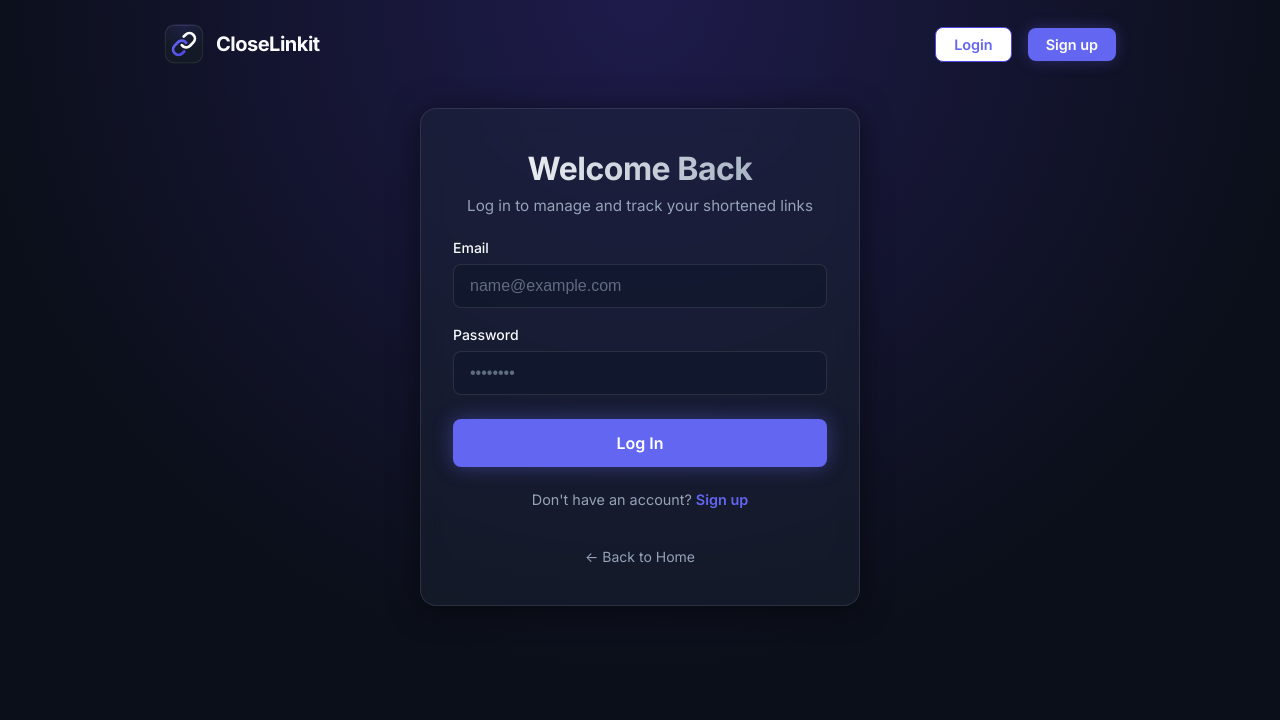
Test: App Component › claims anonymous URLs upon login and displays claimed URLs in list
The image size is (1280, 720).
Type "claim@example.com" into the field labelled "Email".
click(640, 286); type("claim@example.com")  # box left=453, top=264, right=827, bottom=308
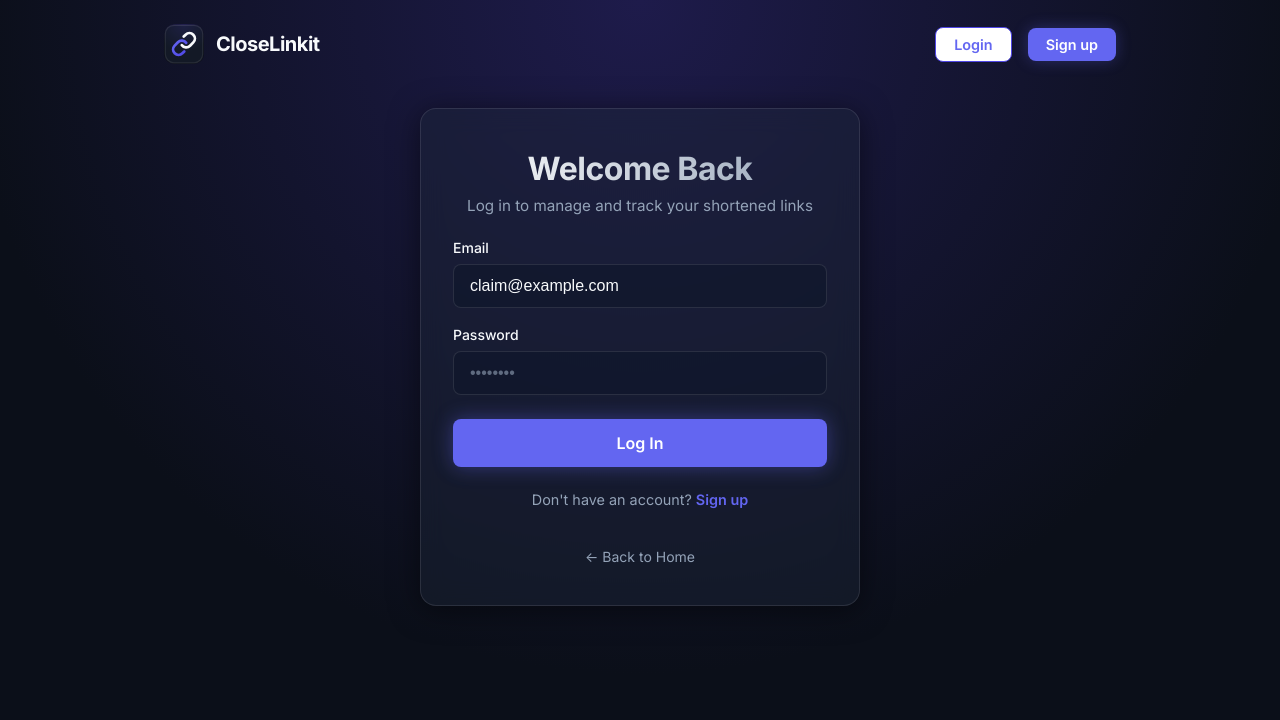
Type "password123" into the password field labelled "Password".
click(640, 373); type("password123")  # box left=453, top=351, right=827, bottom=395
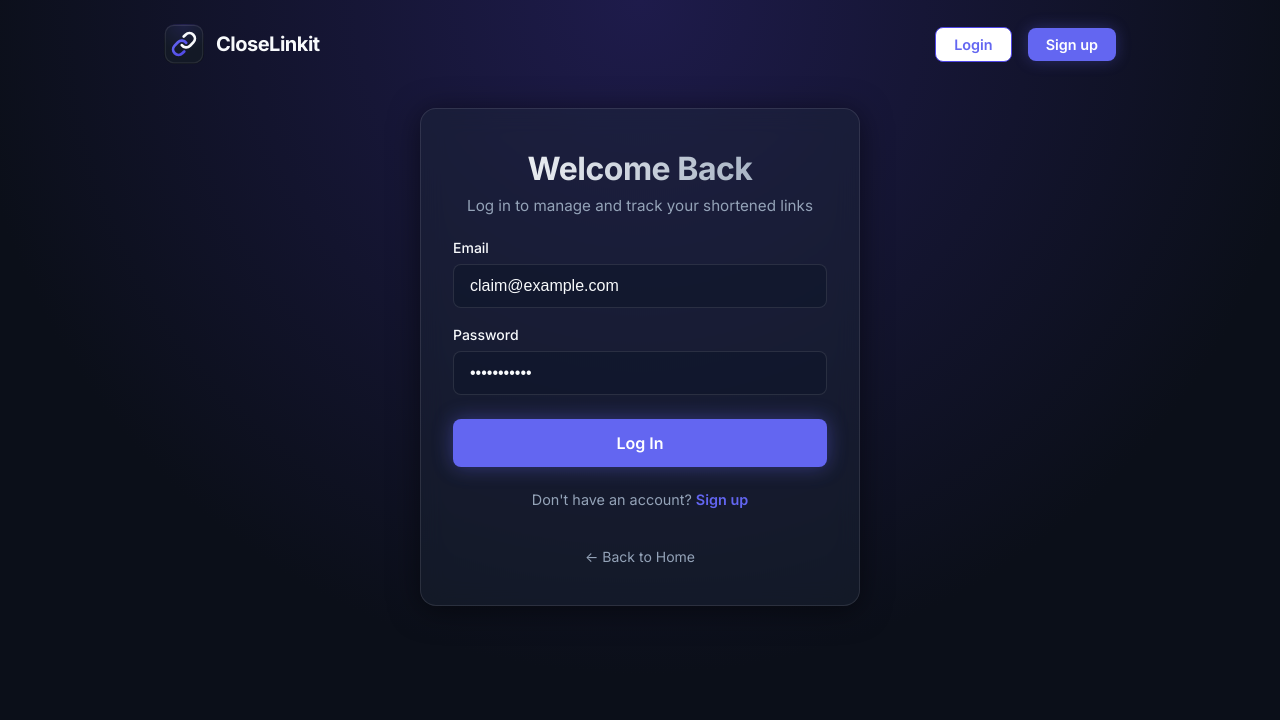
Click the button "Log In".
click(640, 443)  # box left=453, top=419, right=827, bottom=467
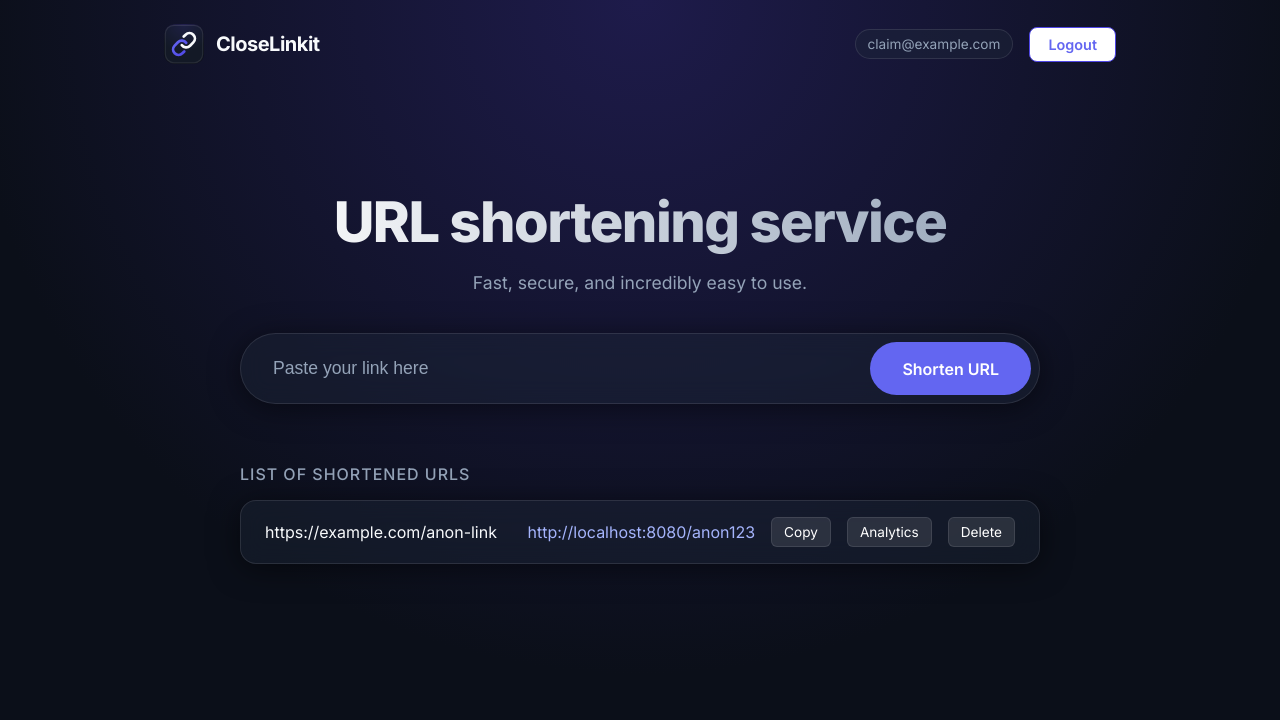
Check: the text "https://example.com/anon-link" is shown, box left=265, top=522, right=497, bottom=542
Check: the link "http://localhost:8080/anon123" is shown, box left=528, top=522, right=755, bottom=542
